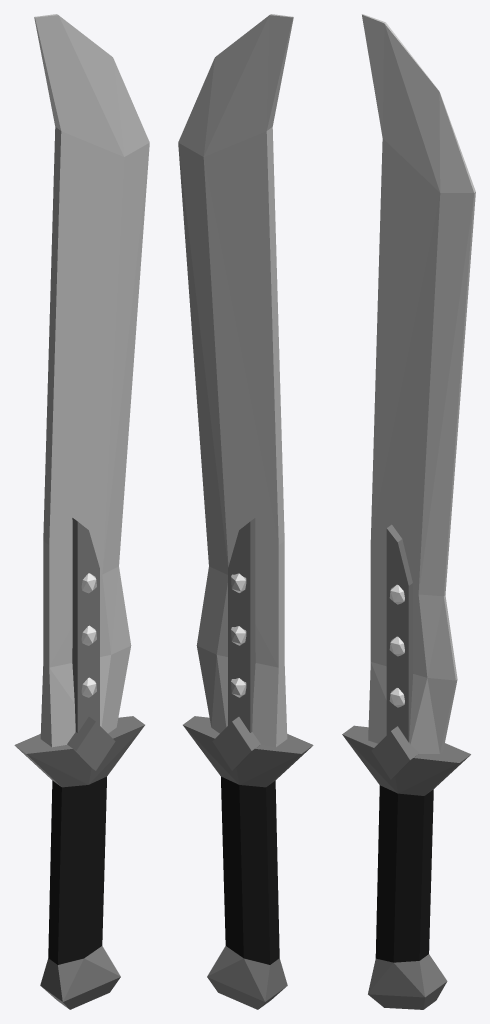
File: Sword.fbx
3 views of the same model, side by side, from view 1: azimuth 30°, elevation 25°; view 2: azimuth 150°, elevation 25°; view 3: azimuth 330°, elevation 25° (orthographic).
Parts seen in each view (by area): view 1: BaseMesh; view 2: BaseMesh; view 3: BaseMesh.
Boxes of the visible parts, x1,y1,x2,y2 form: BaseMesh: [14, 14, 149, 1009]; BaseMesh: [178, 14, 313, 1009]; BaseMesh: [342, 14, 475, 1009].
Bounding box in the file's own units: 32.21 × 238 × 14.01.
2 materials, 1 textured.
